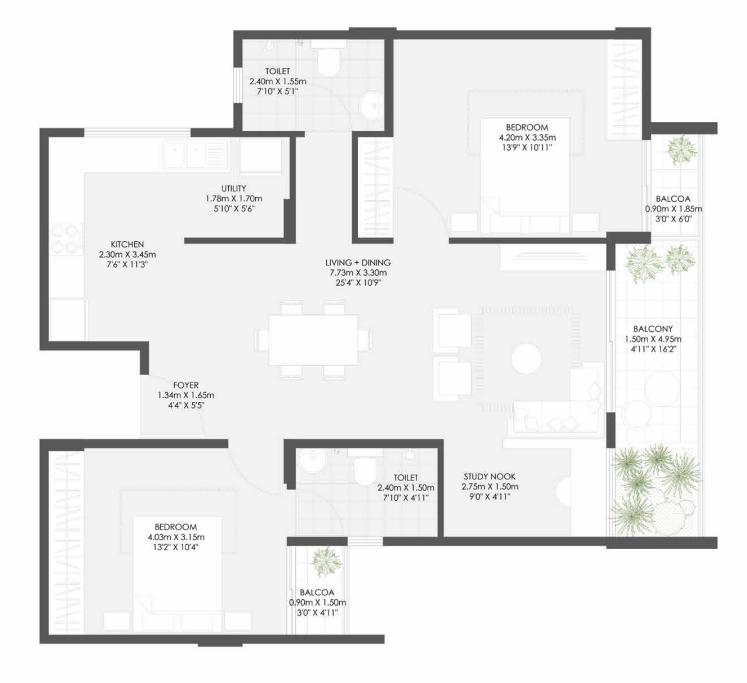Balcony: (612, 241, 700, 537)
Bed: (477, 117, 572, 242), (127, 520, 228, 634)
Bedroom: (388, 37, 646, 238), (47, 448, 289, 644)
Dining Room: (237, 246, 391, 439)
Dining table: (252, 299, 381, 379)
Foyer: (146, 375, 390, 439)
Kitchen: (48, 138, 178, 346)
Living Room: (391, 245, 607, 440)
Sofa: (427, 310, 472, 404), (516, 403, 606, 437), (569, 363, 605, 432), (507, 339, 541, 372)
Wardrobe: (47, 446, 82, 634), (603, 36, 645, 141), (353, 136, 391, 236)
balcoa: (648, 132, 701, 239), (293, 546, 348, 637)
commode: (317, 45, 341, 80), (355, 453, 377, 485)
door: (142, 377, 206, 440), (228, 445, 284, 498), (296, 81, 352, 131), (392, 188, 449, 236), (292, 486, 344, 537)
fridge: (46, 299, 89, 340)
kitchen-slab: (49, 135, 230, 173), (46, 138, 87, 297)
sink: (163, 141, 228, 171), (297, 449, 331, 473), (361, 93, 384, 122)
stove: (49, 222, 84, 257)
study: (444, 446, 609, 539)
toilet: (292, 444, 441, 543), (239, 35, 388, 132)
tv: (500, 245, 611, 275)
utility: (179, 139, 291, 242)
washing-machine: (234, 140, 284, 176)
